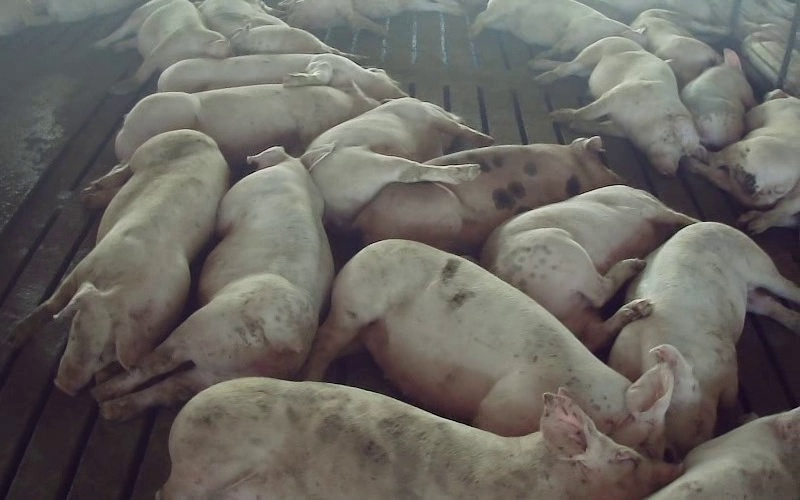pig: (305, 240, 673, 457), (160, 377, 680, 499), (609, 223, 799, 454), (481, 185, 695, 350), (352, 137, 621, 254), (531, 37, 704, 174), (115, 84, 378, 168), (685, 90, 799, 233), (95, 0, 229, 93), (158, 54, 405, 100), (470, 0, 644, 60), (198, 0, 344, 54), (680, 48, 755, 149), (631, 9, 726, 88)
